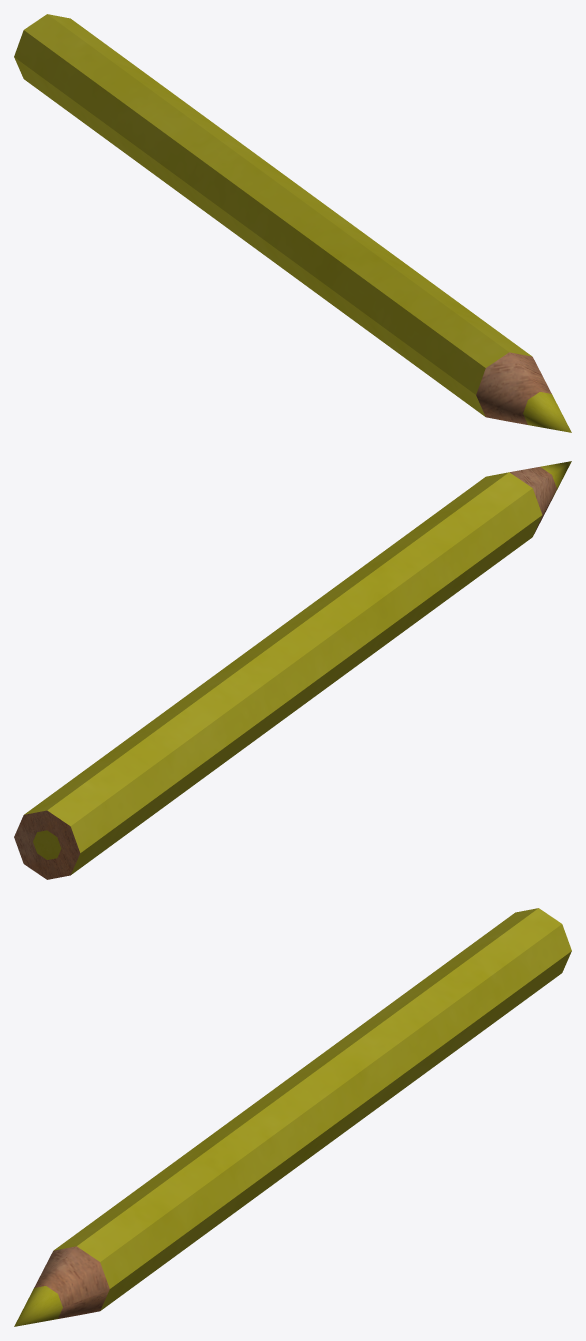
Rendered from Pencil_Yellow.fbx.
3 views of the same model, one above another, from view 1: azimuth 30°, elevation 25°; view 2: azimuth 150°, elevation 25°; view 3: azimuth 330°, elevation 25° (orthographic).
Parts seen in each view (by area): view 1: Pencil.003; view 2: Pencil.003; view 3: Pencil.003.
Boxes of the visible parts, box(x1,y1,x2,y2) form: Pencil.003: box(14, 14, 571, 432); Pencil.003: box(14, 461, 571, 879); Pencil.003: box(14, 908, 571, 1326).
Size of the model in its own units: 14.61 by 14.61 by 200.
